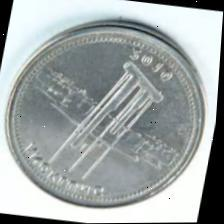coin_1000_e2010: (4, 18, 210, 212)
